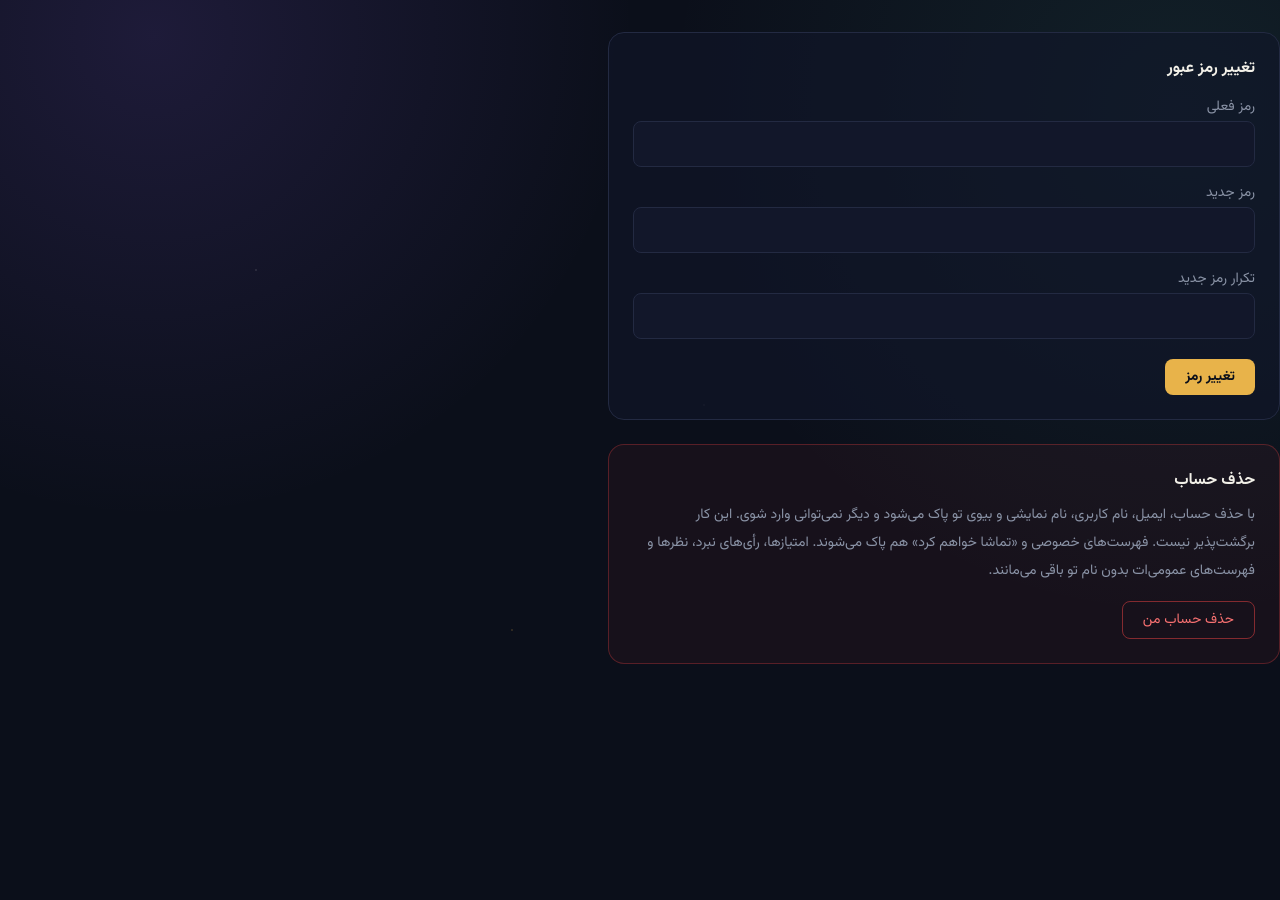
Test: change password form › shows the server's message when the current password is wrong
Type "wrong" into the password field labelled "رمز فعلی".
click(944, 144); type("wrong")  # box [633,121,1255,167]
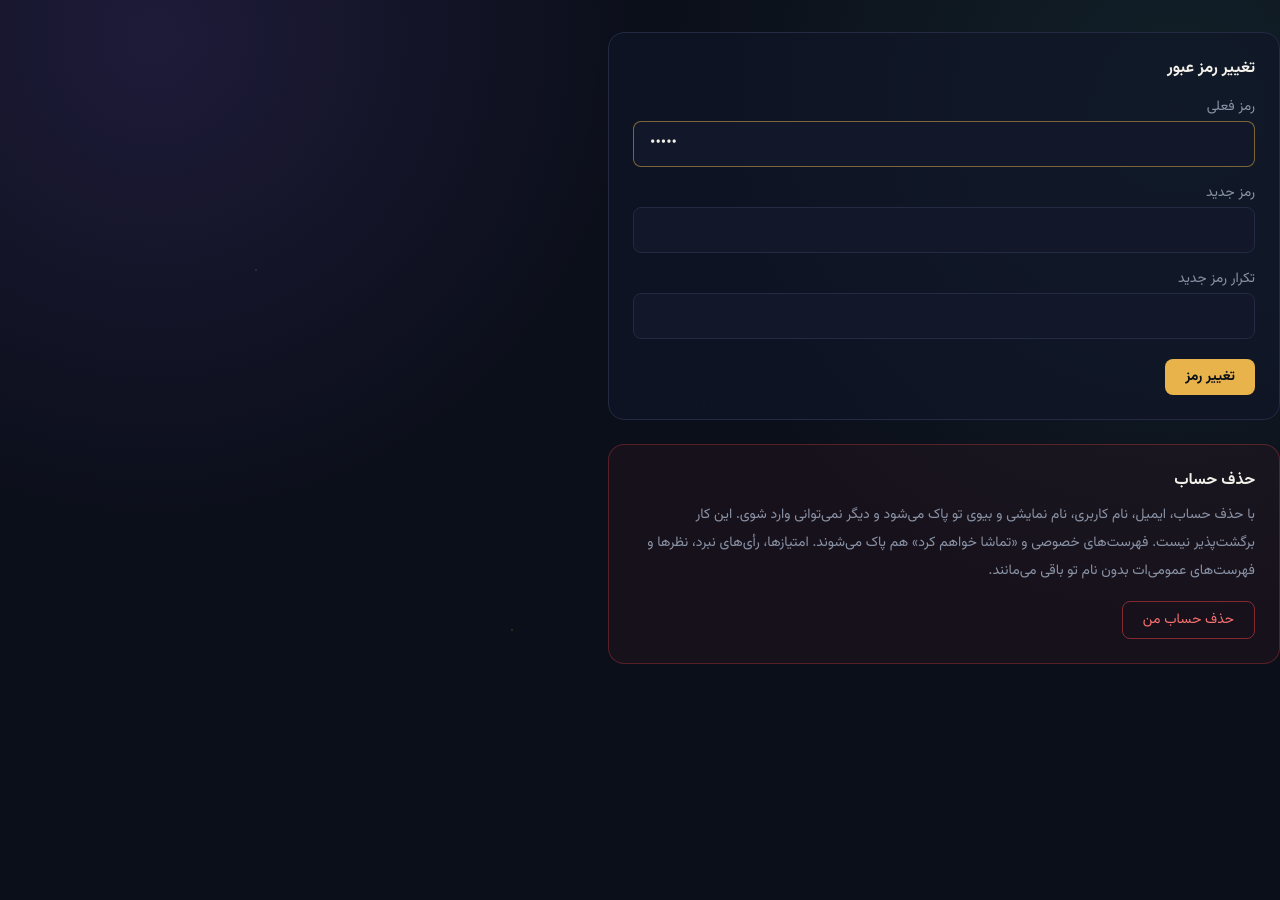
Type "NewSecret!123" into the password field labelled "رمز جدید".
click(944, 230); type("NewSecret!123")  # box [633,207,1255,253]
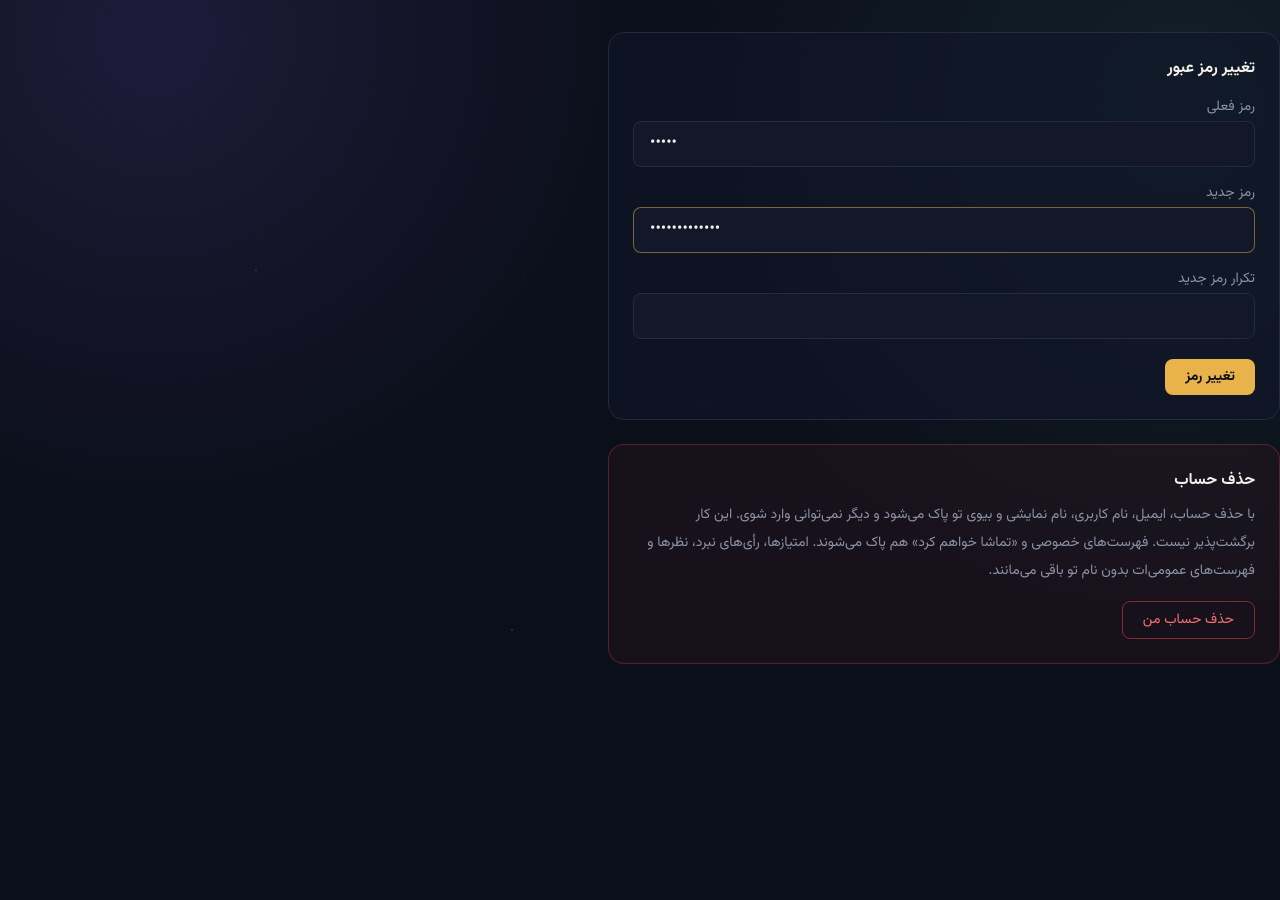
Type "NewSecret!123" into the password field labelled "تکرار رمز جدید".
click(944, 316); type("NewSecret!123")  # box [633,293,1255,339]
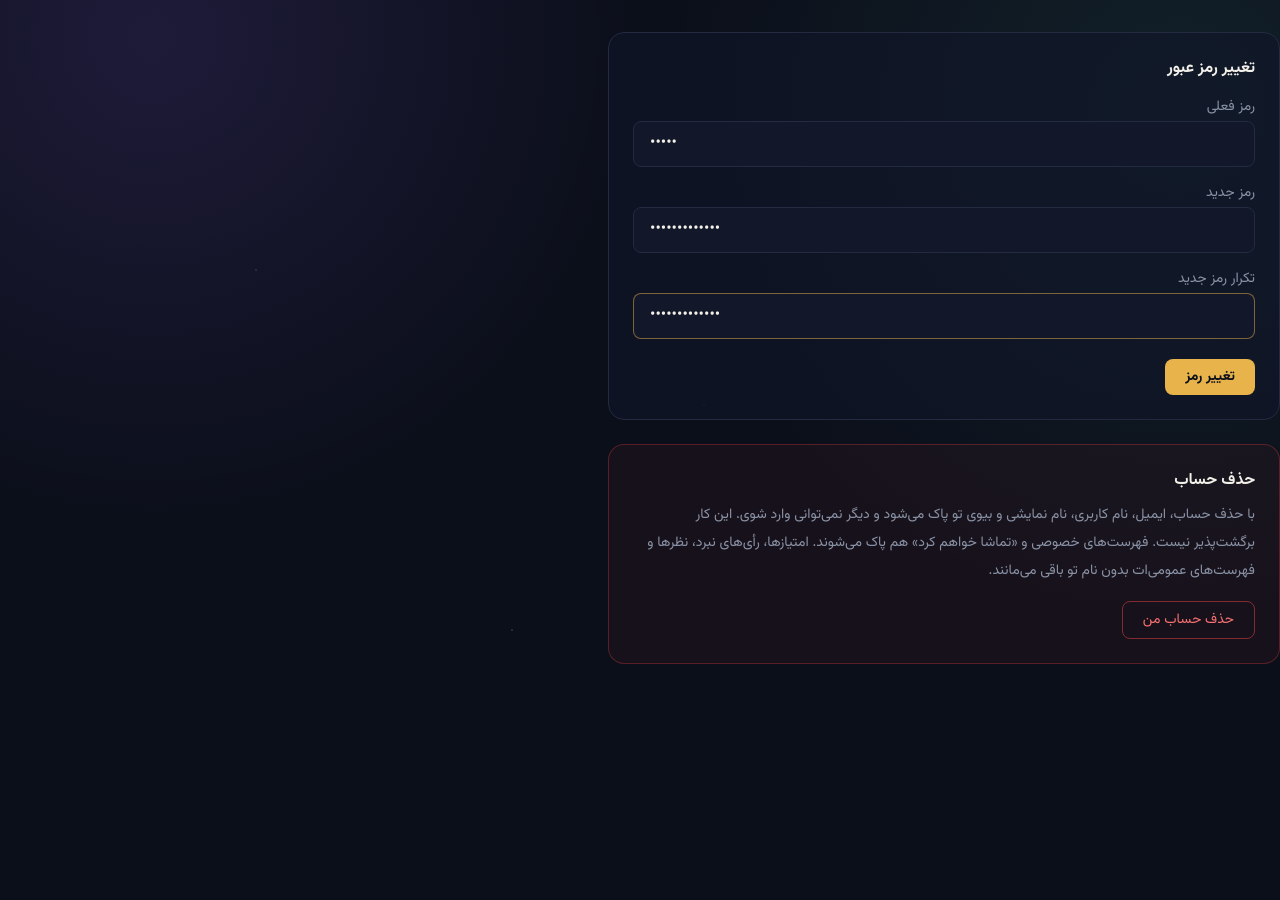
Click the button "تغییر رمز".
click(1210, 377)  # box [1165,359,1255,395]
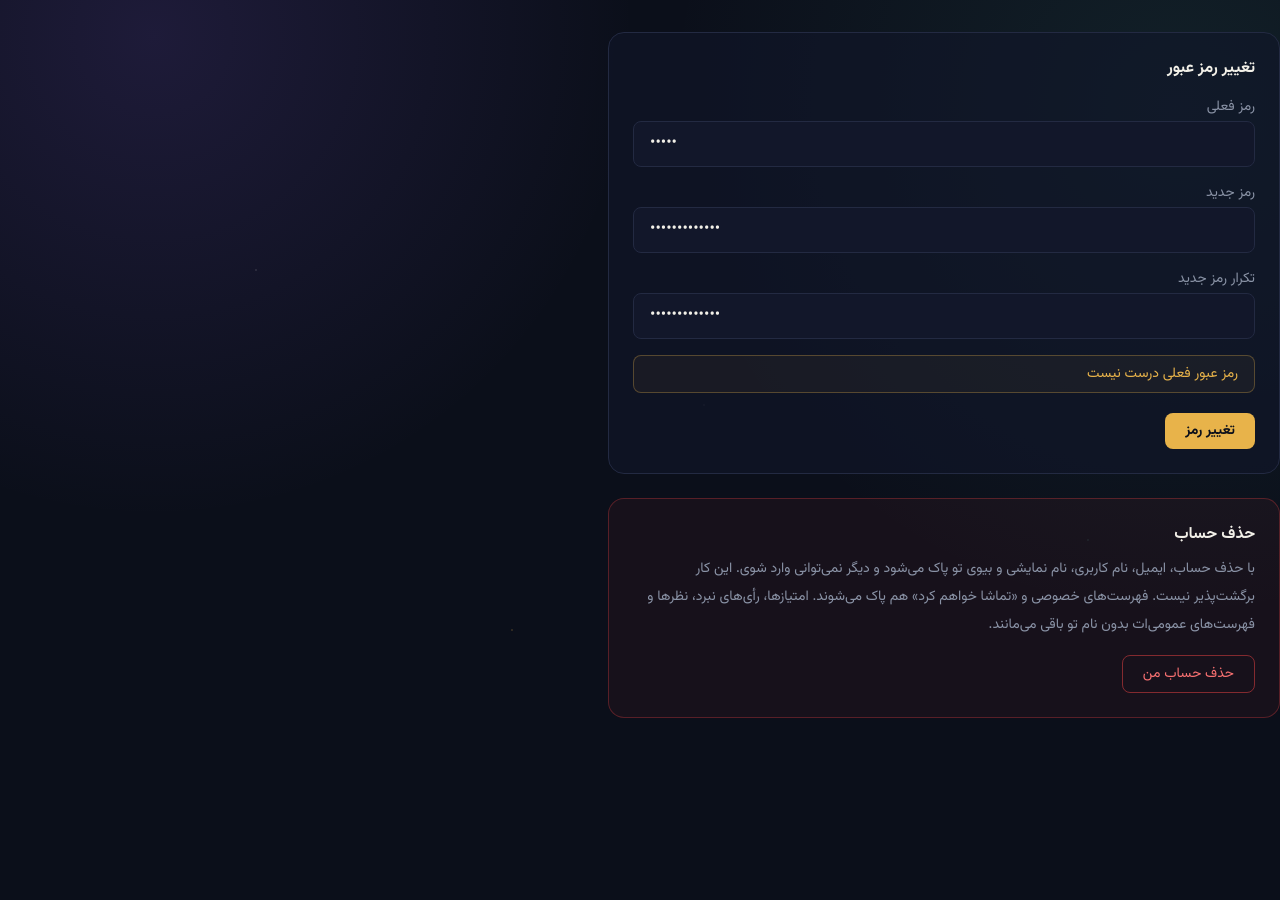
Result: the message reads "رمز عبور فعلی درست نیست" at [1087,363,1238,385]
